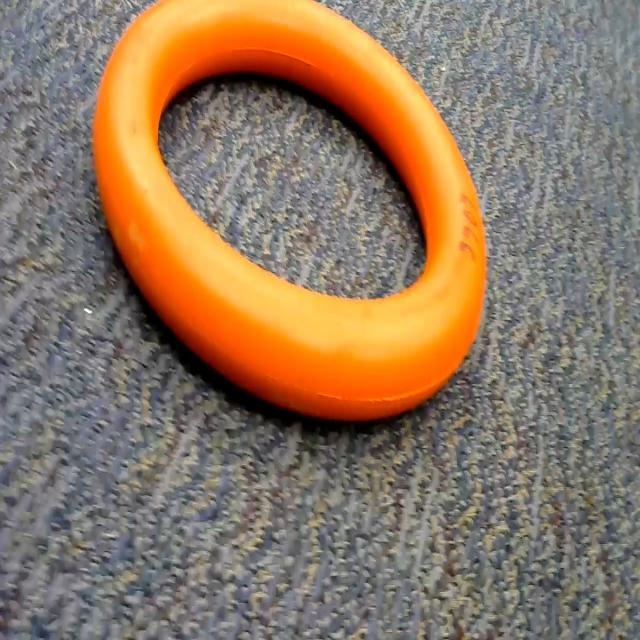note: (89, 0, 517, 433)
